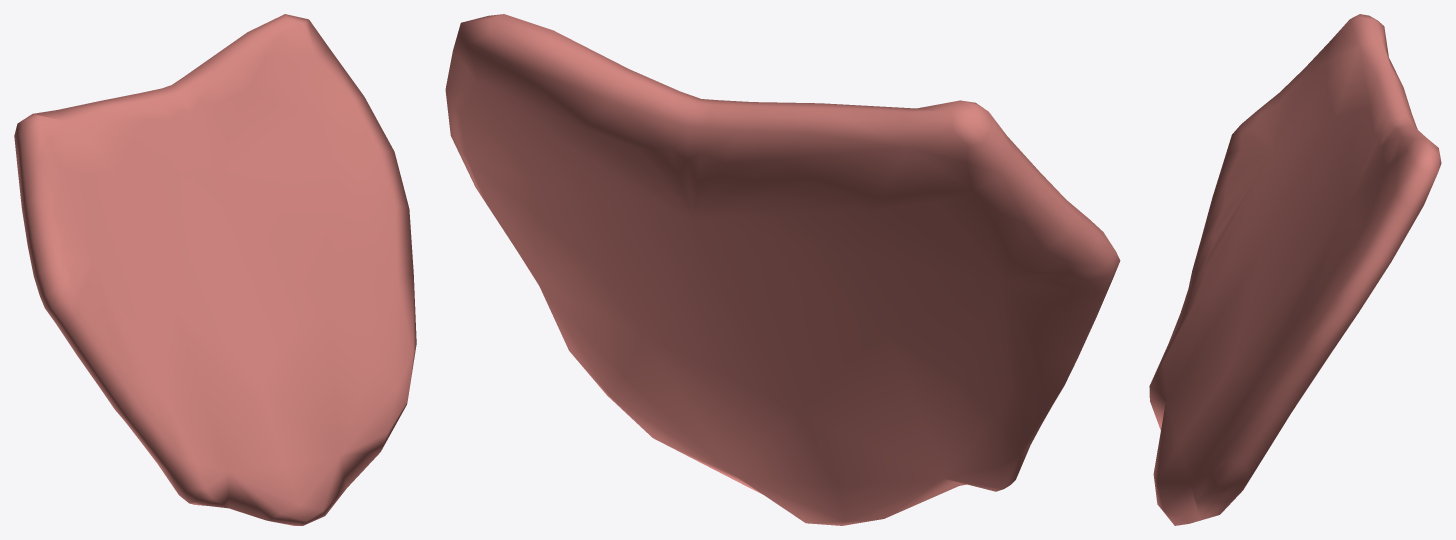
3 views of the same model, side by side, from view 1: azimuth 30°, elevation 25°; view 2: azimuth 150°, elevation 25°; view 3: azimuth 270°, elevation 25° (orthographic). The views are drawn at different scales.
Parts seen in each view (by area): view 1: ZA_d28d23ed1eb463af; view 2: ZA_d28d23ed1eb463af; view 3: ZA_d28d23ed1eb463af.
Boxes of the visible parts, box(x1,y1,x2,y2) form: ZA_d28d23ed1eb463af: box(14, 14, 416, 525); ZA_d28d23ed1eb463af: box(445, 14, 1120, 525); ZA_d28d23ed1eb463af: box(1149, 14, 1441, 525).
Size of the model in its own units: 0.0056 by 0.00539 by 0.0034.
